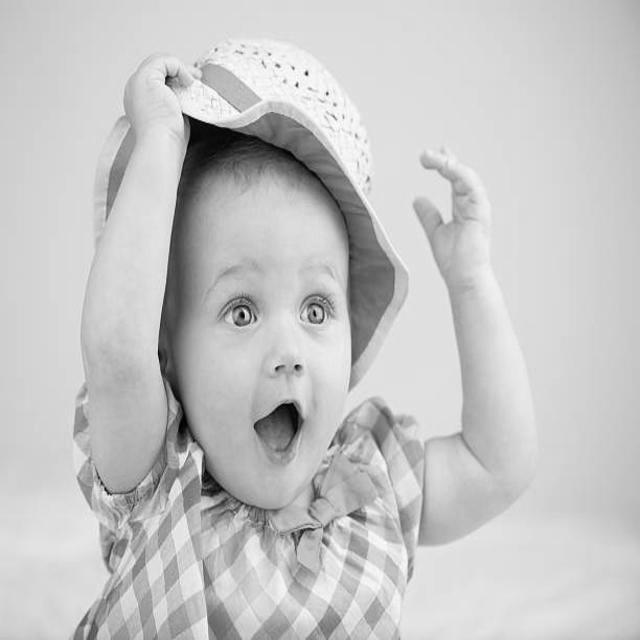Surprised: (184, 190, 366, 512)
